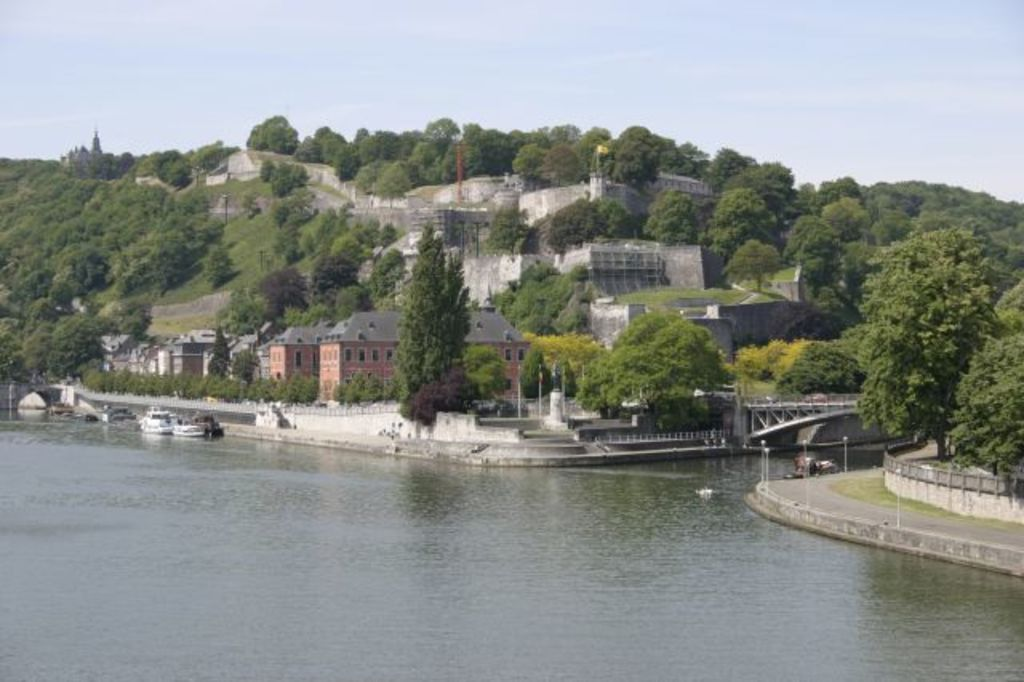Tree: (644, 142, 1022, 477), (0, 132, 233, 384), (216, 152, 398, 387), (492, 264, 731, 427), (291, 112, 676, 206), (384, 209, 476, 427), (84, 363, 321, 405), (548, 193, 603, 254), (481, 198, 529, 254), (465, 345, 516, 397), (241, 112, 295, 158), (337, 369, 395, 405), (596, 200, 638, 241)
